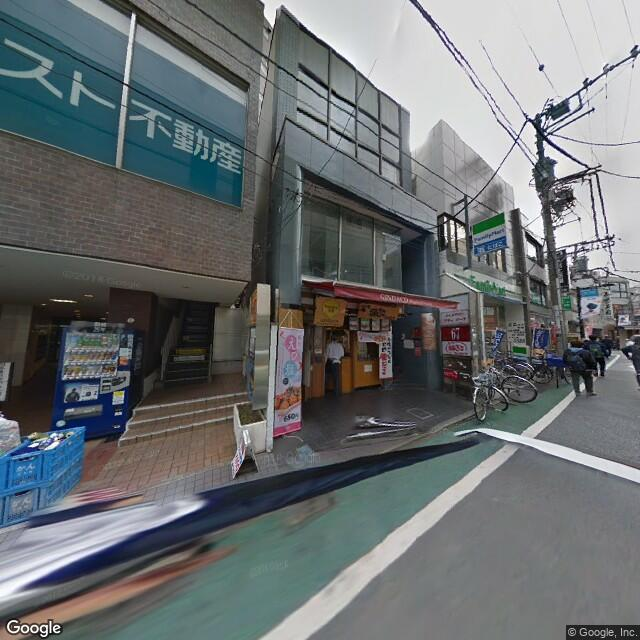family_mart: (471, 207, 510, 257), (462, 269, 511, 302), (510, 339, 528, 364)
